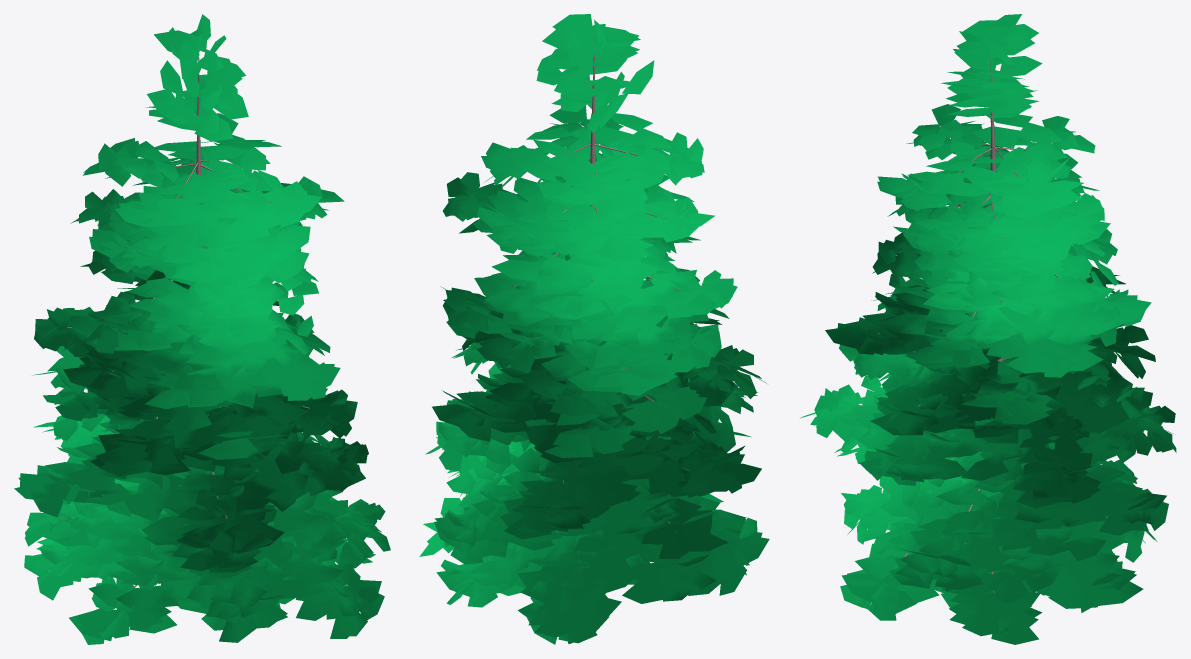
File: SM_TreeFinal_4.fbx
3 renders of one model, left to right at view 1: azimuth 30°, elevation 25°; view 2: azimuth 150°, elevation 25°; view 3: azimuth 270°, elevation 25°, orthographic. The views are drawn at different scales.
Parts seen in each view (by area): view 1: SM_TreeFinal_4; view 2: SM_TreeFinal_4; view 3: SM_TreeFinal_4.
Part boxes in pixels (x1,y1,x2,y2): SM_TreeFinal_4: [14, 14, 390, 644]; SM_TreeFinal_4: [419, 14, 769, 644]; SM_TreeFinal_4: [800, 14, 1176, 644].
Size of the model in its own units: 588 by 1001 by 617.
